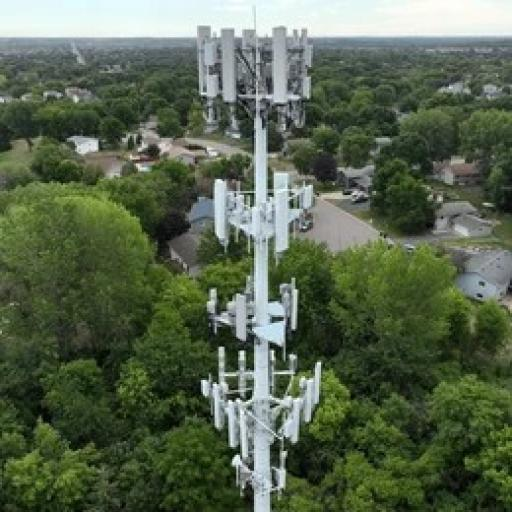monopole_tower: (195, 6, 323, 510)
